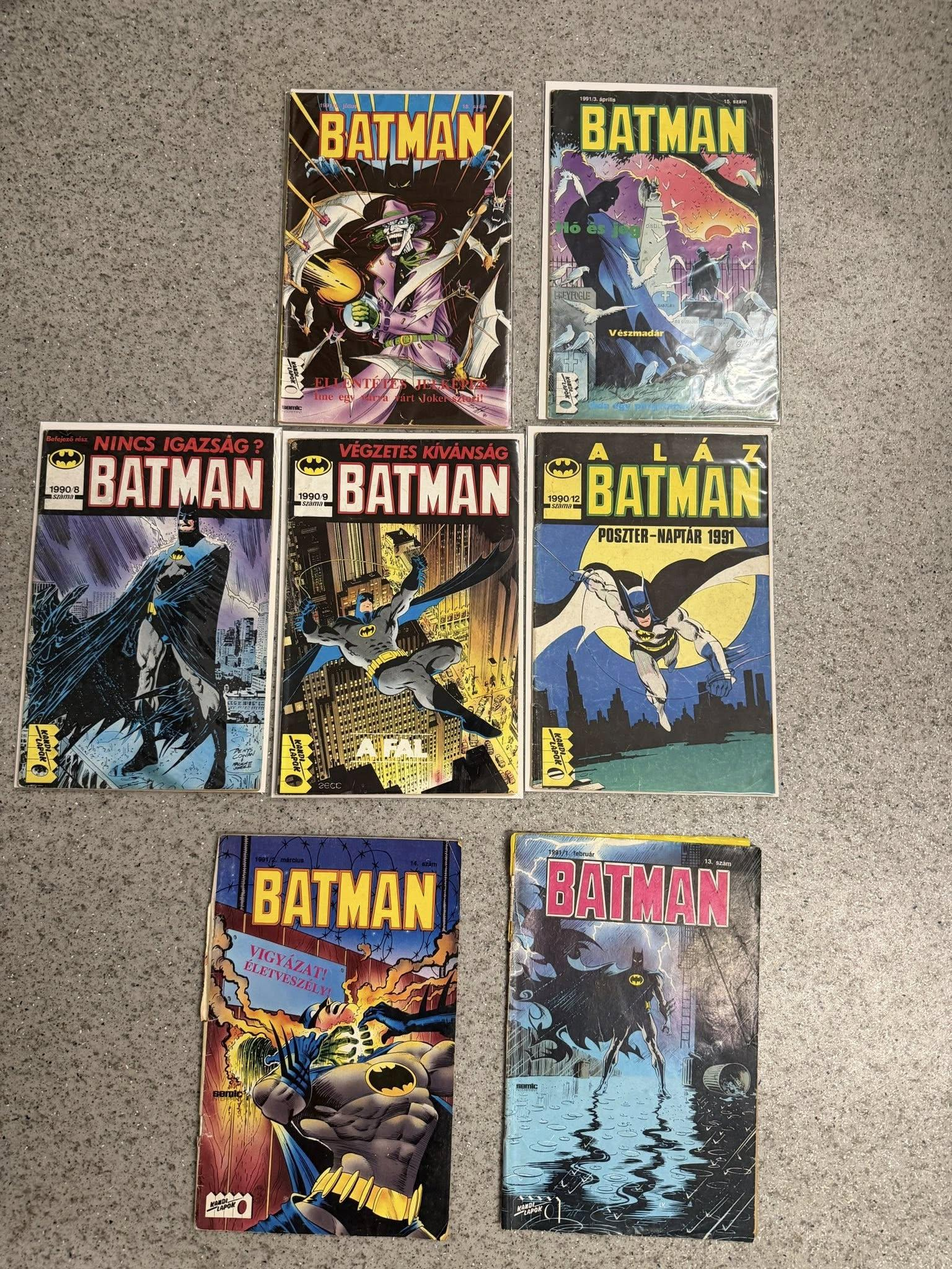comic: (195, 832, 461, 1239), (501, 833, 767, 1240), (17, 420, 279, 794), (527, 425, 776, 797), (275, 433, 521, 796), (540, 83, 785, 425), (277, 89, 514, 430)
